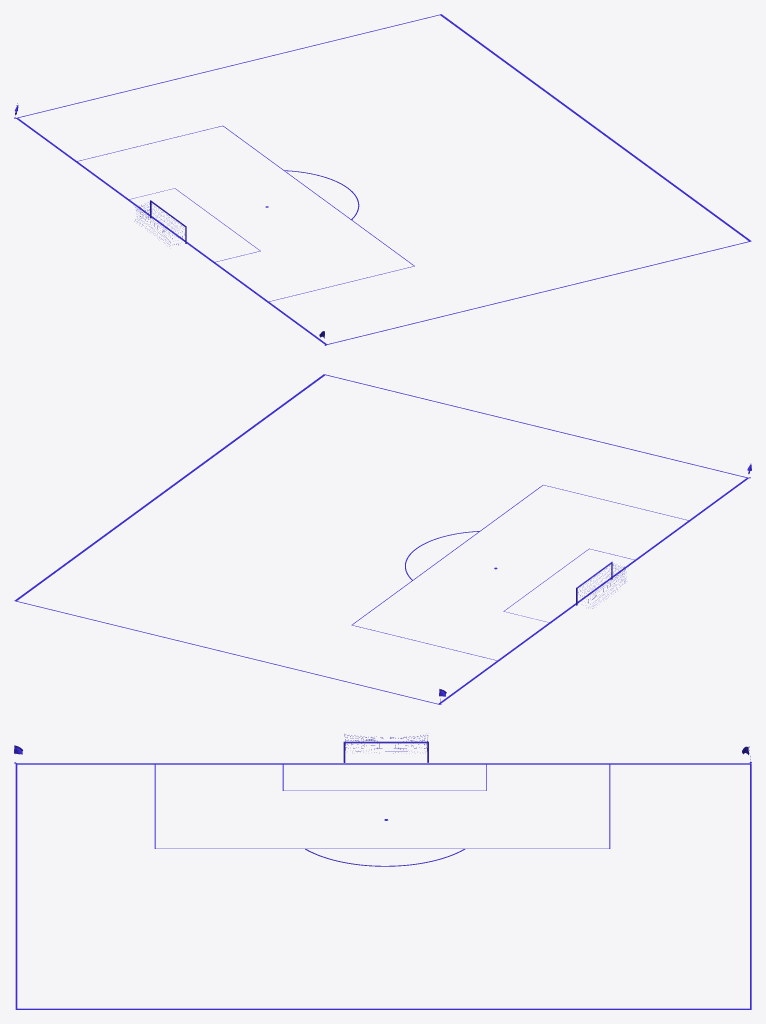
The model's file is nyt_mckennie__model__assets_Field_Annots3D.glb.
The picture shows the model from 3 angles, top to bottom: view 1: azimuth 30°, elevation 25°; view 2: azimuth 150°, elevation 25°; view 3: azimuth 270°, elevation 25°; orthographic projection. The views are drawn at different scales.
Visible parts, largest first — view 1: FiledAnnotations3D; view 2: FiledAnnotations3D; view 3: FiledAnnotations3D, LowPolyGoal.
Part boxes in pixels (box(x1,y1,x2,y2)): FiledAnnotations3D: box(16, 14, 751, 344); FiledAnnotations3D: box(14, 374, 748, 704); FiledAnnotations3D: box(15, 763, 751, 1009); LowPolyGoal: box(343, 734, 428, 762).
Size of the model in its own units: 3.22 by 0.1263 by 3.92.
